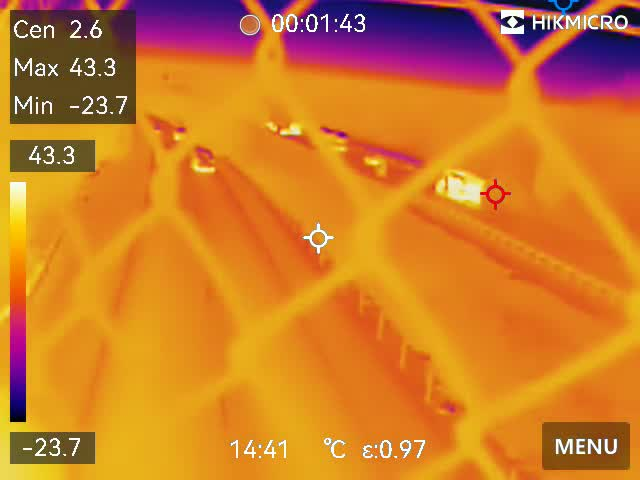heavyTruck: (431, 166, 495, 210)
vehicle: (186, 140, 216, 176), (172, 126, 190, 143)
